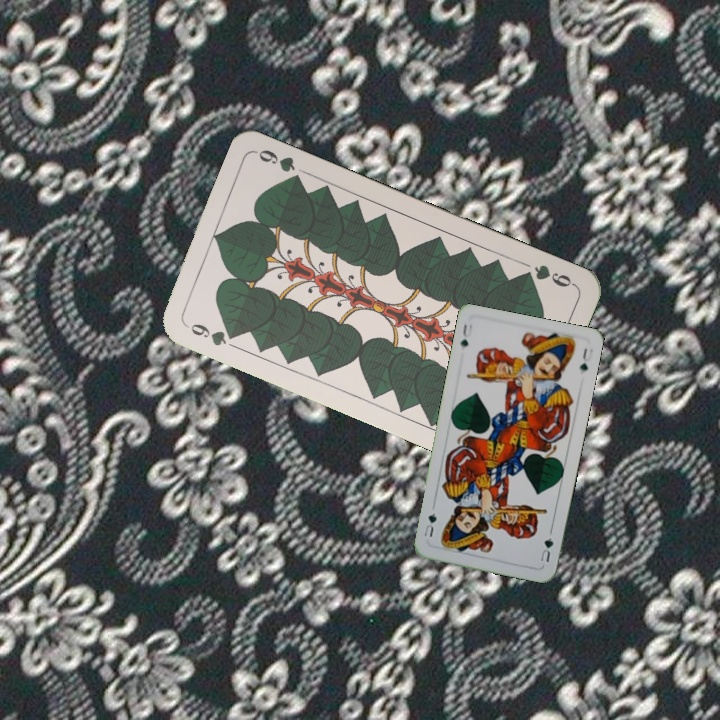G9: (517, 260, 577, 290), (186, 319, 241, 349)
GU: (536, 533, 556, 565), (456, 320, 473, 350)
